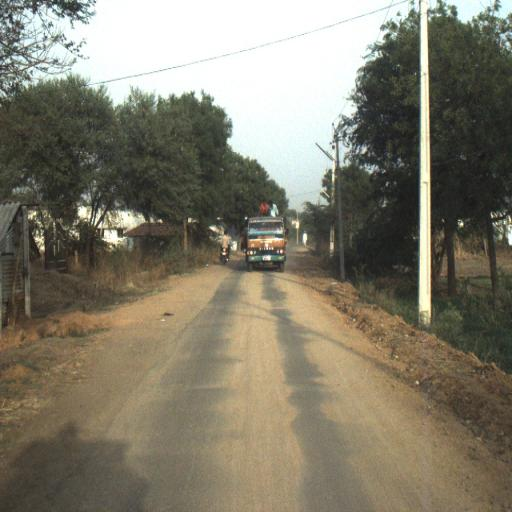street_light_0: (314, 142, 342, 175), (319, 188, 334, 206)
